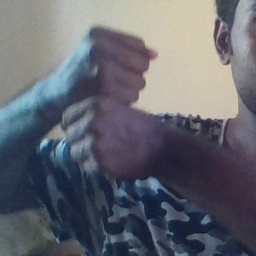G: (56, 19, 161, 181)
